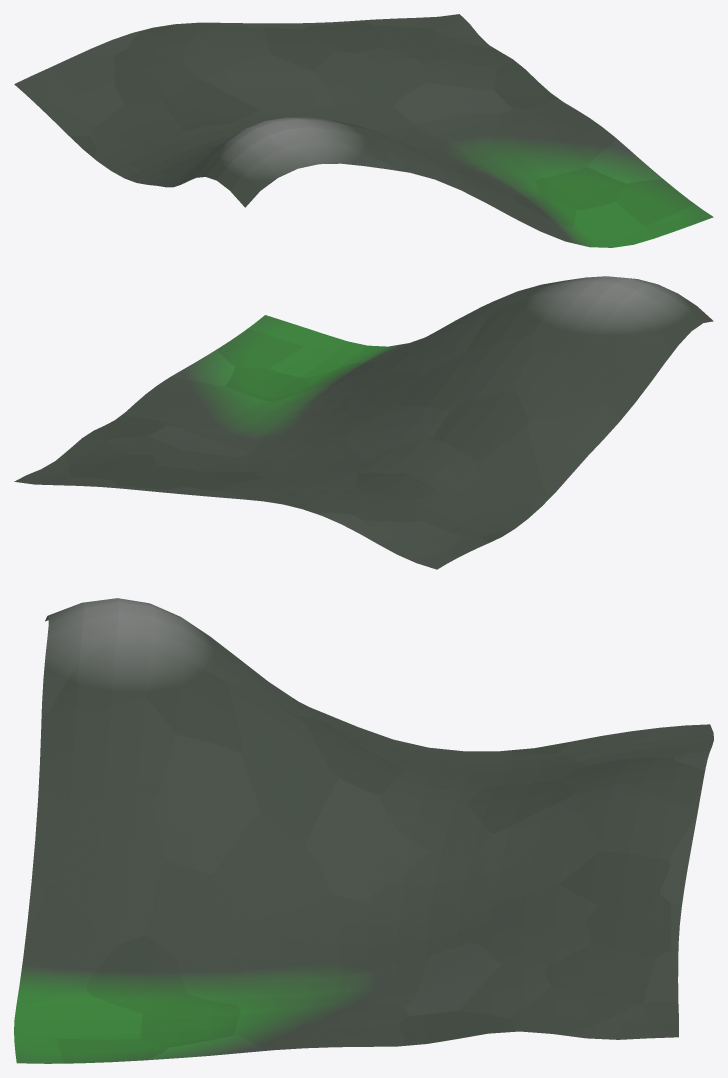
File: Hill_1.glb
3 renders of one model, top to bottom at view 1: azimuth 30°, elevation 25°; view 2: azimuth 150°, elevation 25°; view 3: azimuth 270°, elevation 25°, orthographic. The views are drawn at different scales.
Visible parts, largest first — view 1: Hill_1; view 2: Hill_1; view 3: Hill_1.
Boxes of the visible parts, bbox=[...] form: Hill_1: bbox=[14, 14, 713, 247]; Hill_1: bbox=[14, 276, 713, 569]; Hill_1: bbox=[14, 598, 713, 1063].
Size of the model in its own units: 15.17 by 5.12 by 15.2.
Materials: 1 (1 with a texture image).
